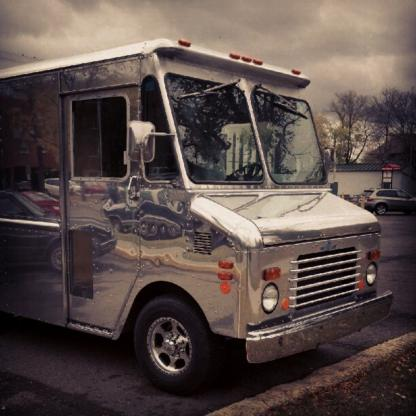Car: (364, 186, 415, 217)
Truck: (0, 38, 395, 396)
